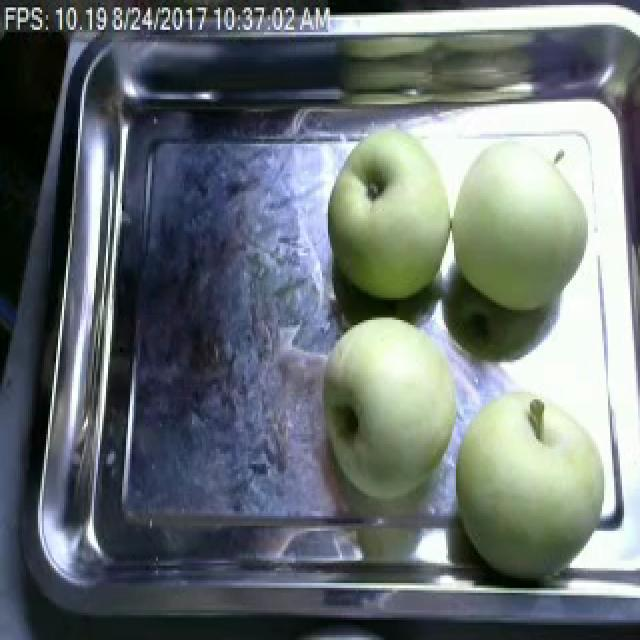50-_ripeness: (317, 314, 460, 502), (316, 117, 462, 299), (451, 396, 600, 570), (446, 149, 590, 320)
